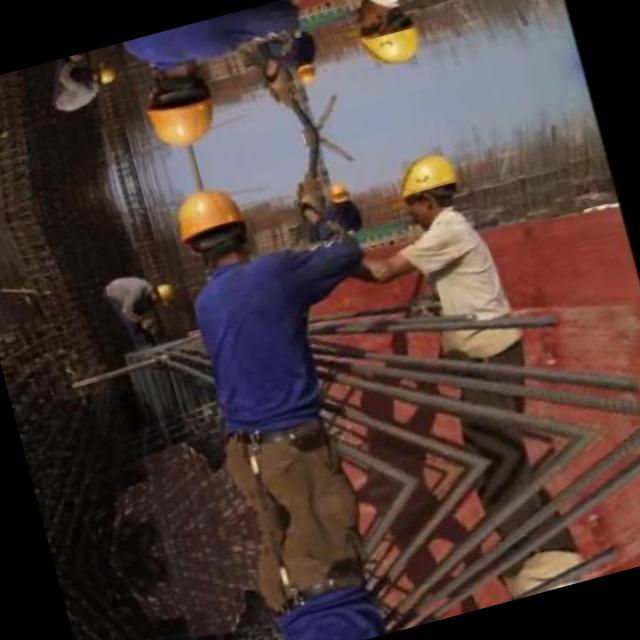helmet: (133, 48, 230, 154), (168, 175, 264, 282), (388, 145, 468, 233), (345, 0, 425, 72), (142, 272, 180, 310), (84, 55, 122, 93), (318, 172, 354, 208), (288, 56, 322, 92)
